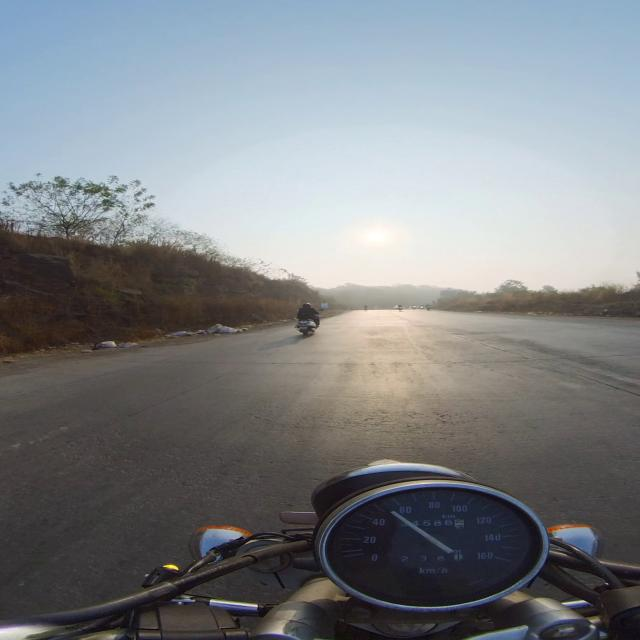motorcycle: (0, 461, 639, 639), (296, 319, 317, 335)
